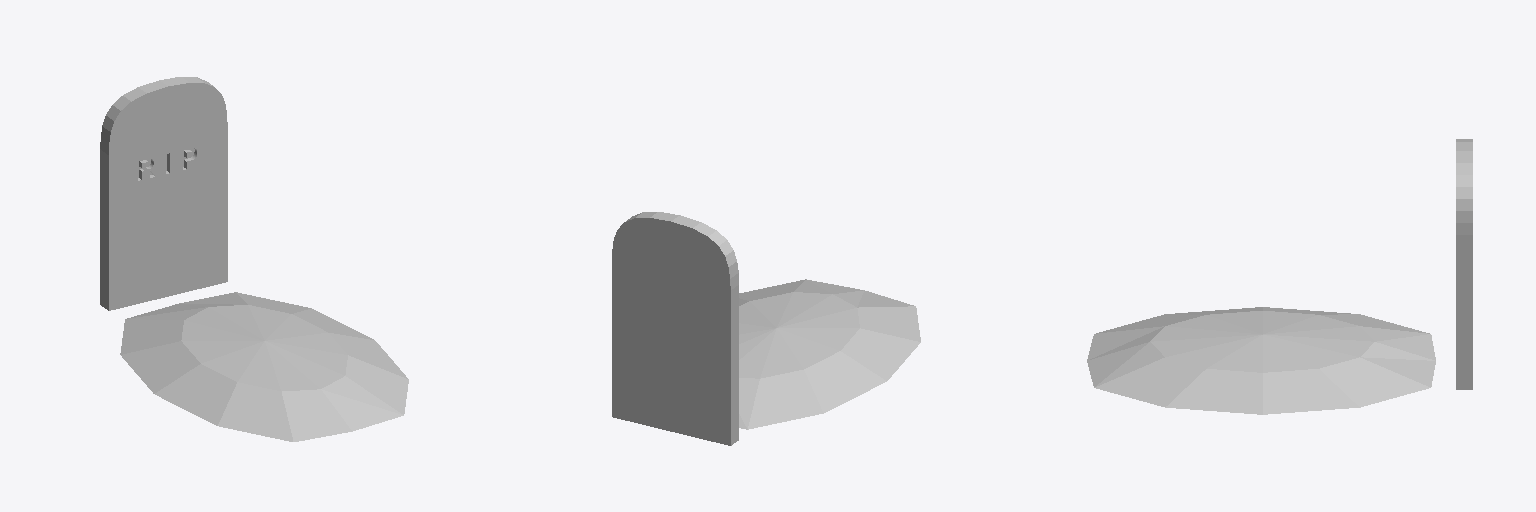
The model's file is stone_grave.obj.
3 views of the same model, side by side, from view 1: azimuth 30°, elevation 25°; view 2: azimuth 150°, elevation 25°; view 3: azimuth 270°, elevation 25° (orthographic).
Parts seen in each view (by area): view 1: Sphere001, Text001; view 2: Text001, Sphere001; view 3: Sphere001, Text001.
Part boxes in pixels (bbox=[...]): Sphere001: bbox=[120, 292, 408, 441]; Text001: bbox=[100, 77, 227, 310]; Text001: bbox=[612, 212, 738, 445]; Sphere001: bbox=[739, 279, 920, 429]; Sphere001: bbox=[1087, 307, 1435, 414]; Text001: bbox=[1456, 139, 1472, 389].
Size of the model in its own units: 21.29 by 19.33 by 32.19.